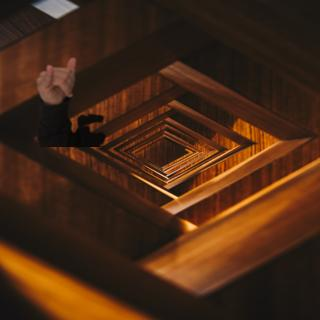HAVE: (35, 52, 80, 105)
